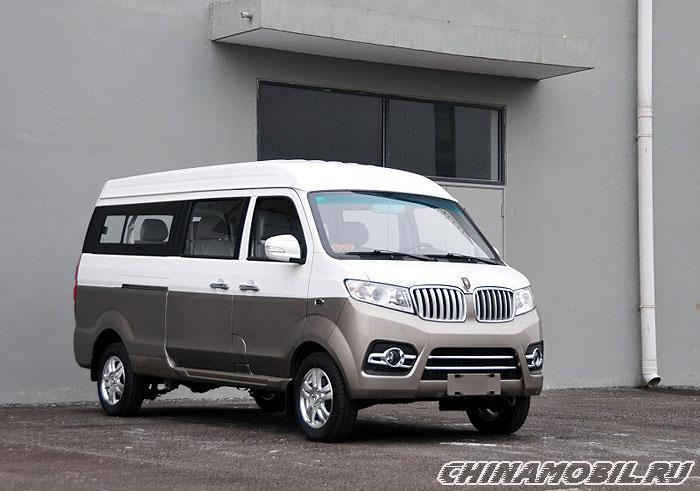van: (75, 164, 553, 448)
